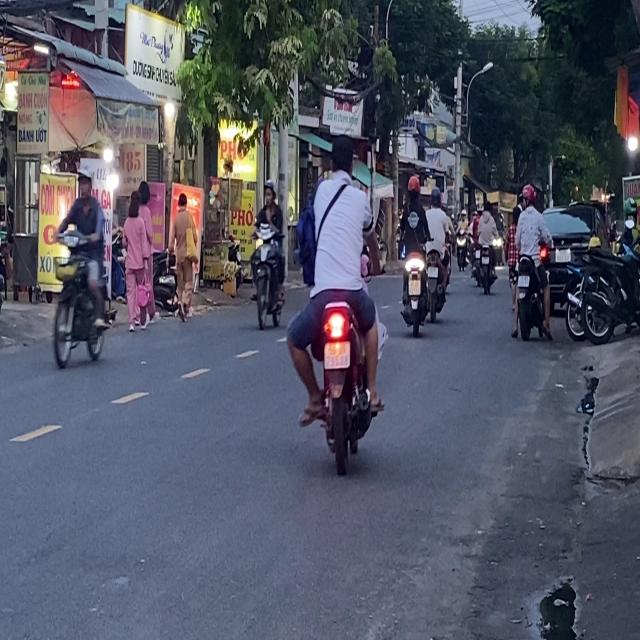helmet: (76, 162, 94, 197), (262, 177, 276, 205), (406, 174, 421, 198), (521, 183, 535, 207)
licenseplate: (288, 124, 386, 471), (49, 161, 111, 371), (509, 182, 553, 341), (248, 176, 287, 329), (398, 173, 429, 334)
motorcyclist: (328, 134, 354, 177)
nohelmet: (324, 341, 350, 368), (409, 279, 420, 295), (517, 274, 529, 286)
